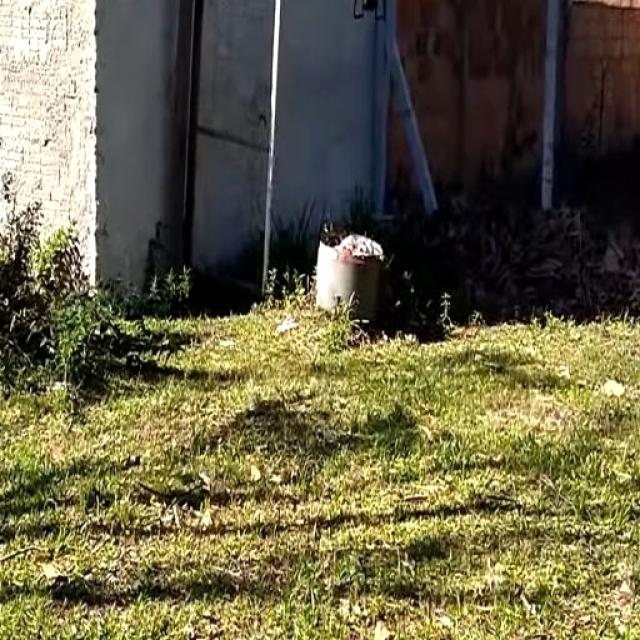bird: (331, 0, 414, 21)
